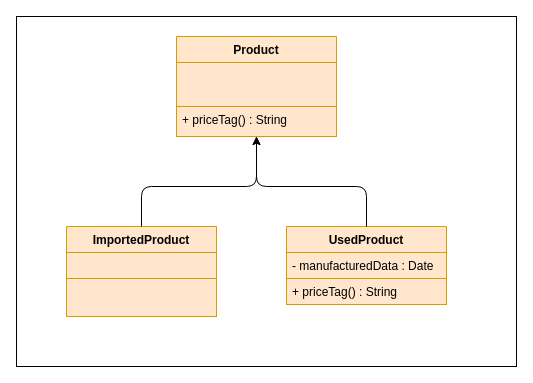
Some shapes in this 533 by 383 pixel diagram are drawn without their labels. The centre of each missing label's shape, as x and y in pixels:
+ priceTag() : String + totalPrice() : Double: point (141, 297)
- customsFee : Double: point (141, 265)
- name : String - price : Double: point (256, 84)
